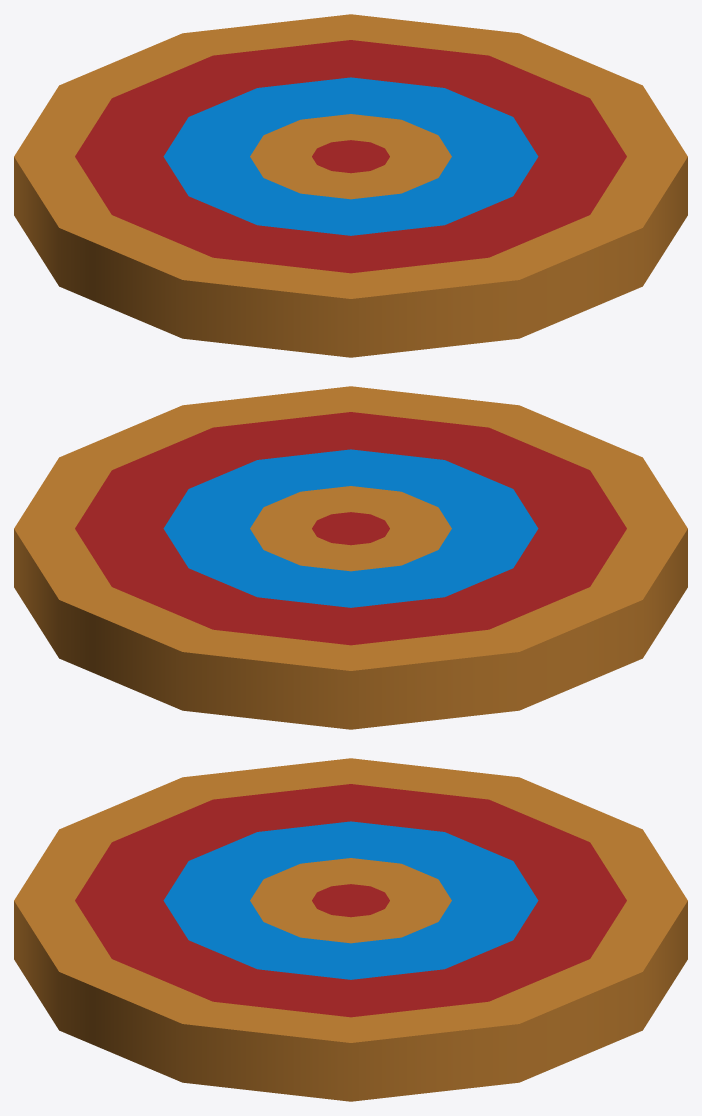
File: dartboard_1.fbx
3 views of the same model, one above another, from view 1: azimuth 30°, elevation 25°; view 2: azimuth 150°, elevation 25°; view 3: azimuth 270°, elevation 25° (orthographic).
Visible parts, largest first — view 1: Dartboard_1; view 2: Dartboard_1; view 3: Dartboard_1.
Part boxes in pixels (x1,y1,x2,y2): Dartboard_1: (14, 14, 687, 357); Dartboard_1: (14, 386, 687, 729); Dartboard_1: (14, 758, 687, 1101).
Size of the model in its own units: 1.17 by 1.17 by 0.1124.
